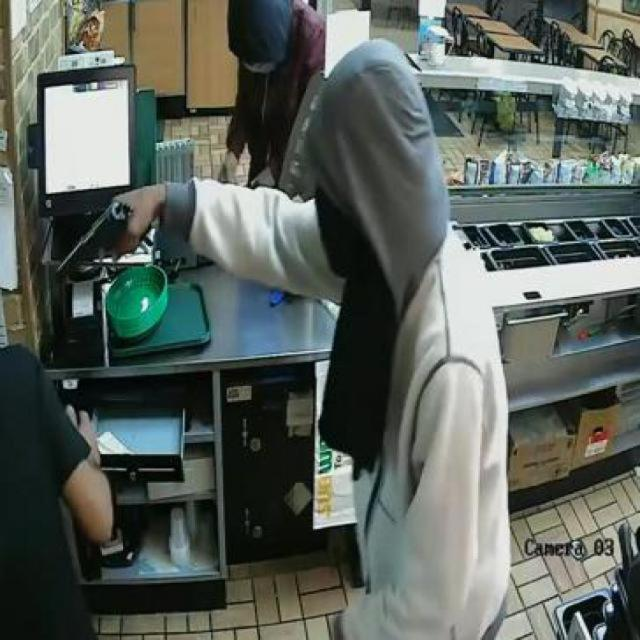pistol: (51, 192, 146, 280)
